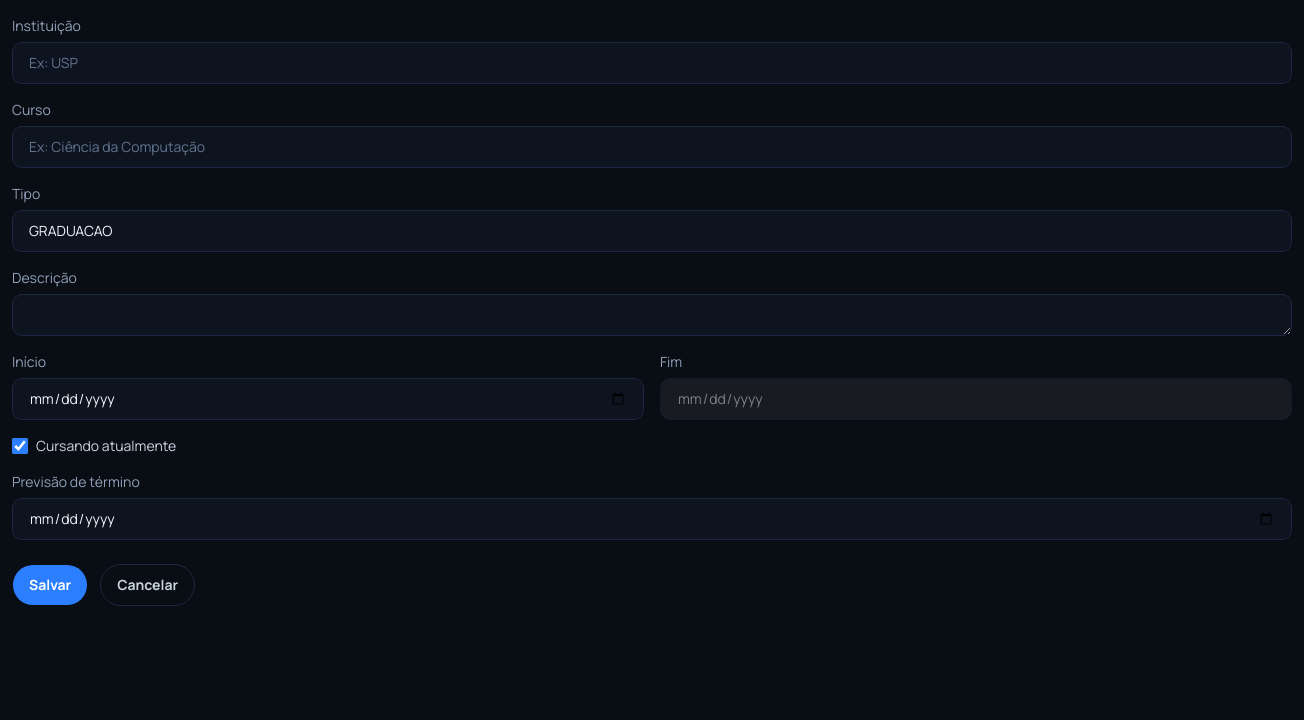
Test case: EducationForm › shows an error when the api fails
The image size is (1304, 720).
In the field with placeholder "Ex: USP": (652, 63) [12,42,1292,84], type "USP"
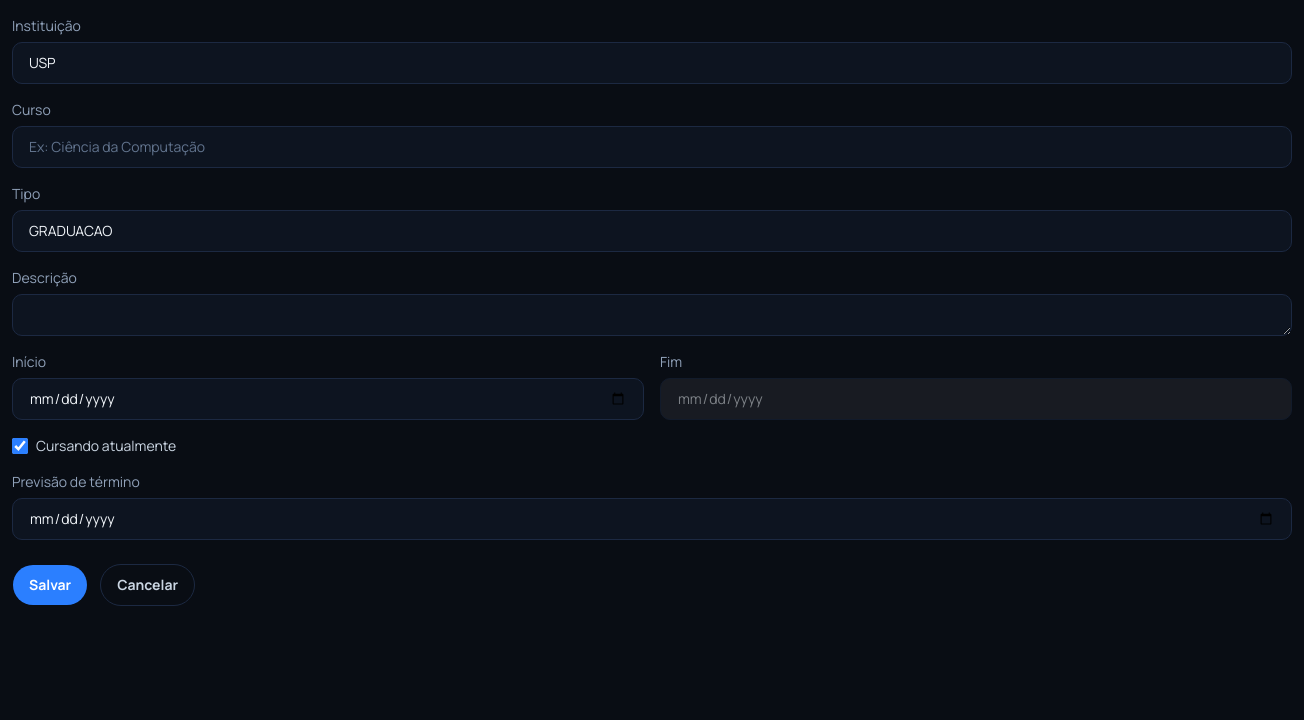
In the field with placeholder "Ex: Ciência da Computação": (652, 147) [12,126,1292,168], type "Ciência da Computação"
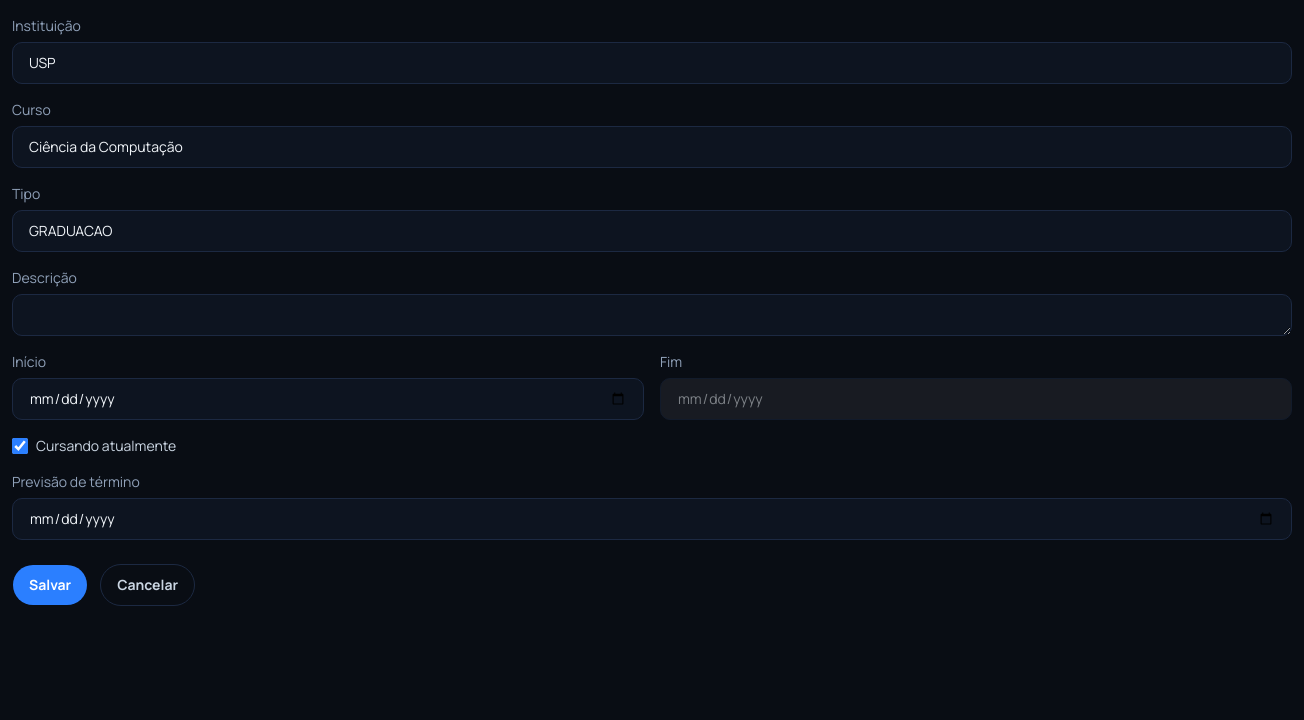
In the text box labelled "Descrição": (652, 315) [12,294,1292,336], type "Bacharelado com ênfase em sistemas."
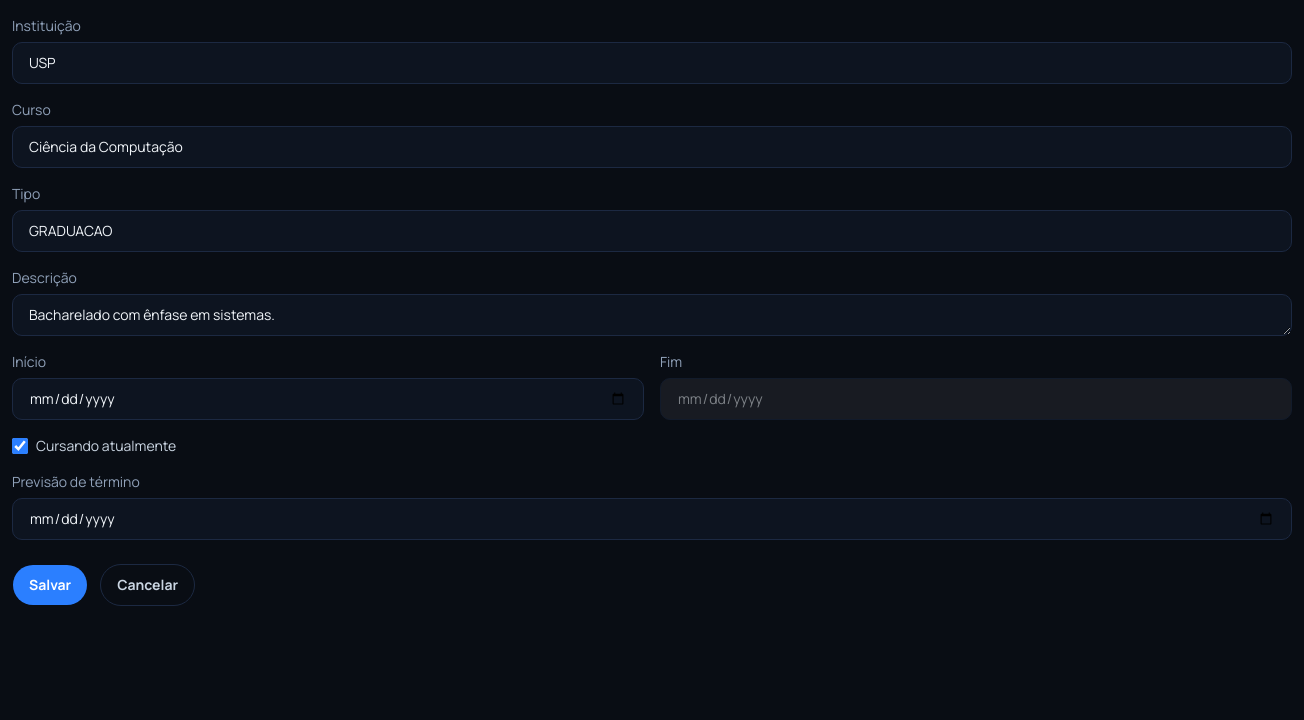
In the date field labelled "Início": (328, 399) [12,378,644,420], type "2020-02-10"
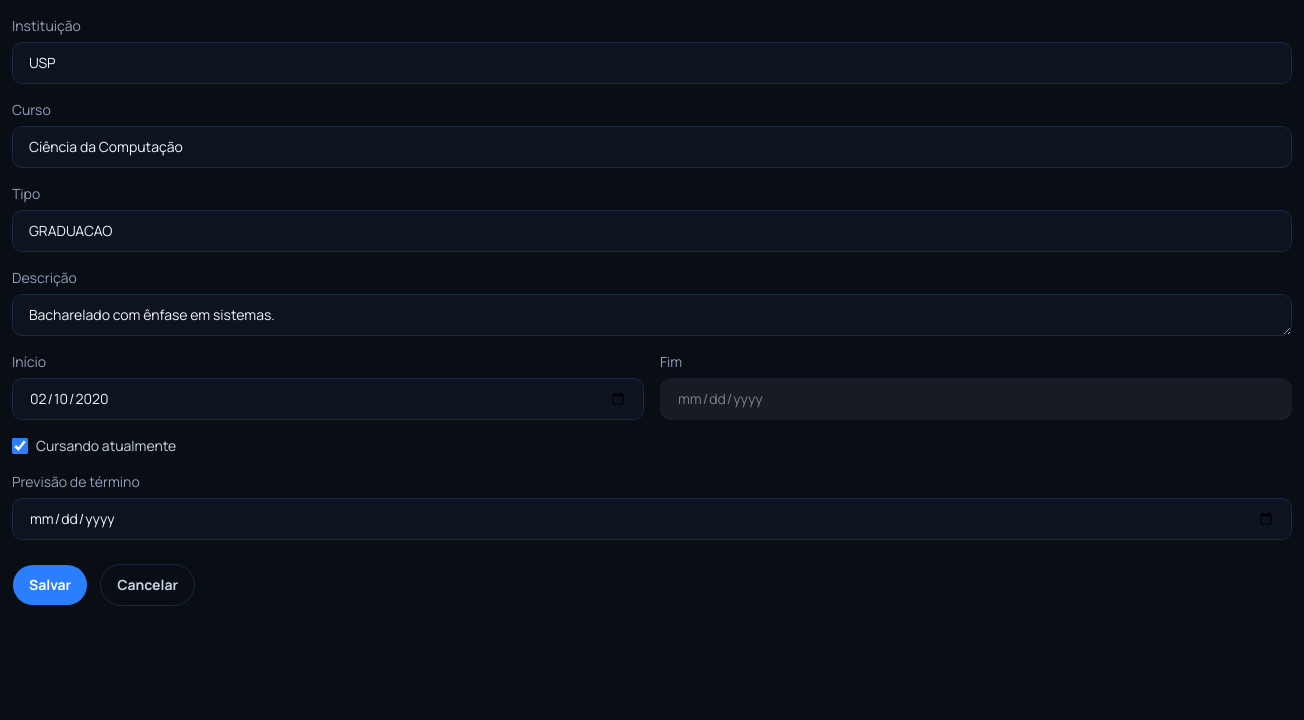
Click the button "Salvar": (50, 585) [12,564,88,606]
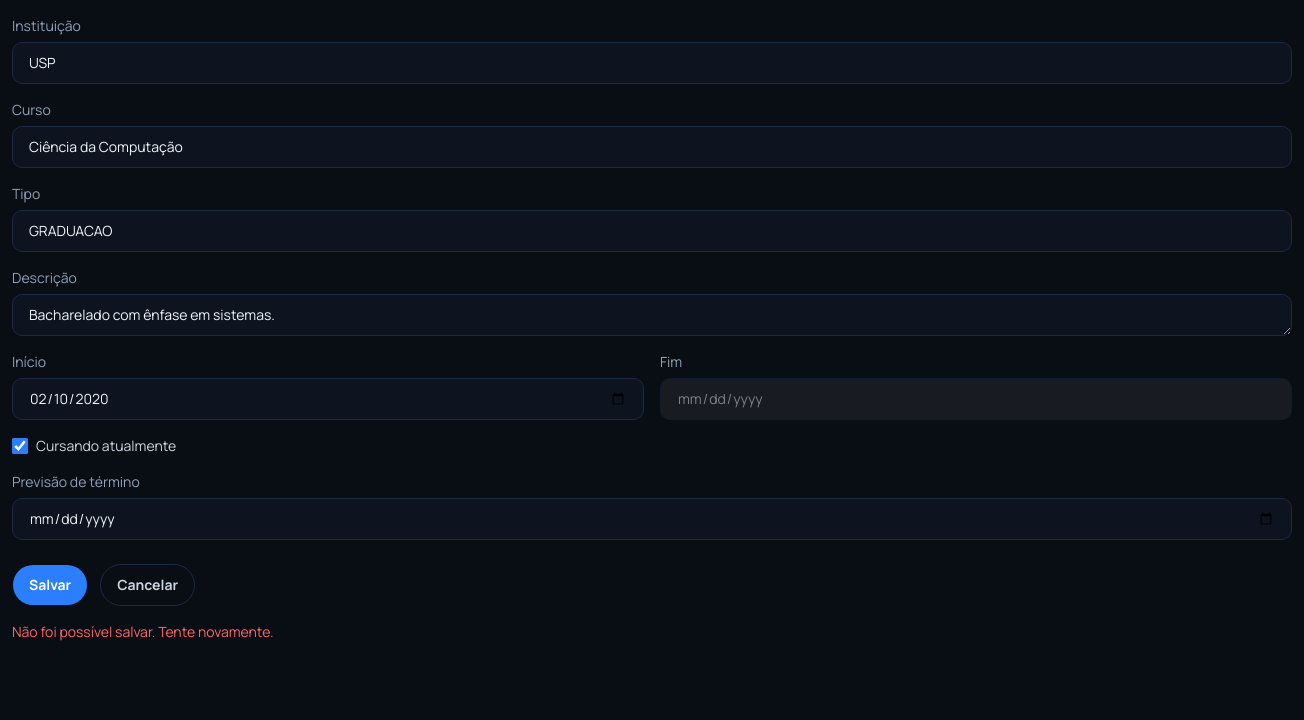
Check: the text "Não foi possível salvar. Tente novamente." is shown, box [12,622,274,641]
